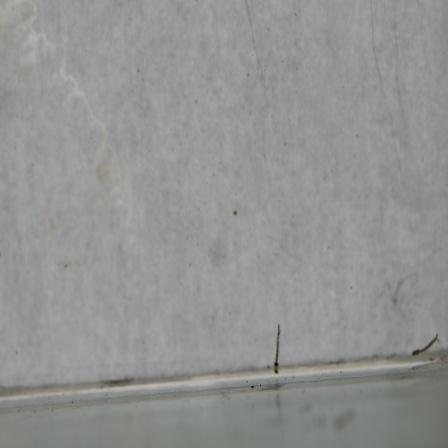Jentik-Nyamuk: (268, 319, 285, 378)
